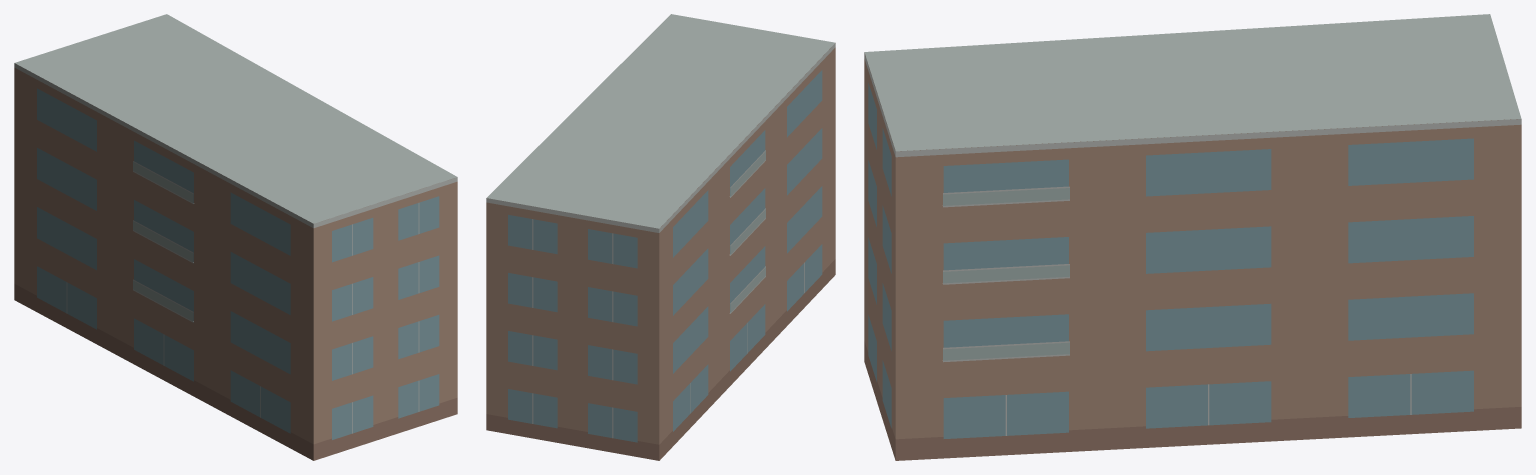
The model's file is survey-upis-32577205.glb.
The picture shows the model from 3 angles, left to right: view 1: azimuth 30°, elevation 25°; view 2: azimuth 150°, elevation 25°; view 3: azimuth 270°, elevation 25°; orthographic projection. The views are drawn at different scales.
Visible parts, largest first — view 1: survey-upis-32577205.tmp; view 2: survey-upis-32577205.tmp; view 3: survey-upis-32577205.tmp.
Part boxes in pixels (x1,y1,x2,y2): survey-upis-32577205.tmp: (14, 14, 457, 460); survey-upis-32577205.tmp: (486, 14, 835, 460); survey-upis-32577205.tmp: (864, 14, 1521, 460).
Size of the model in its own units: 12.19 by 12.8 by 24.64.
